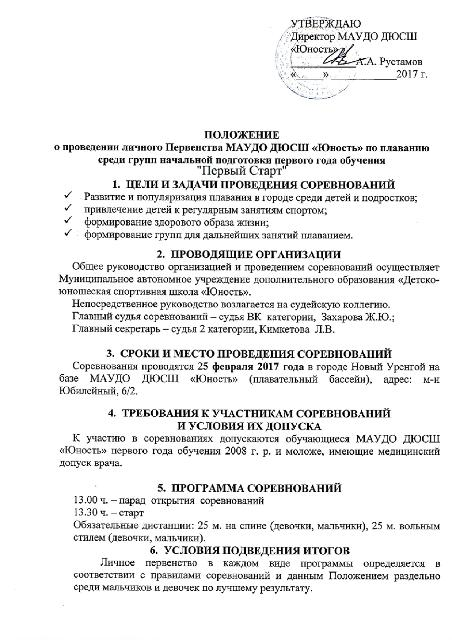stamp: (278, 14, 356, 98)
